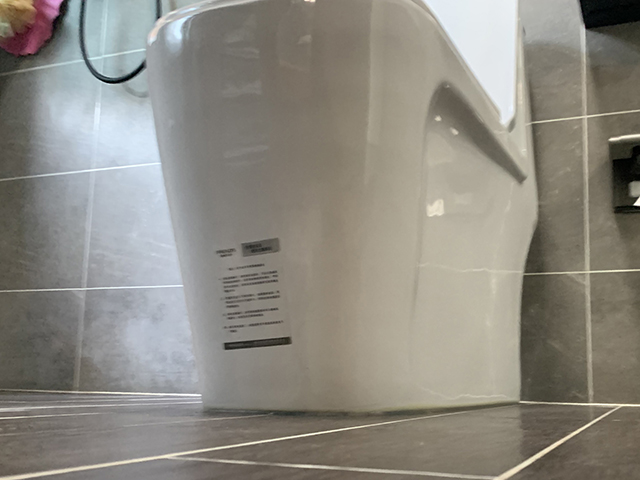closestool: (144, 1, 541, 416)
